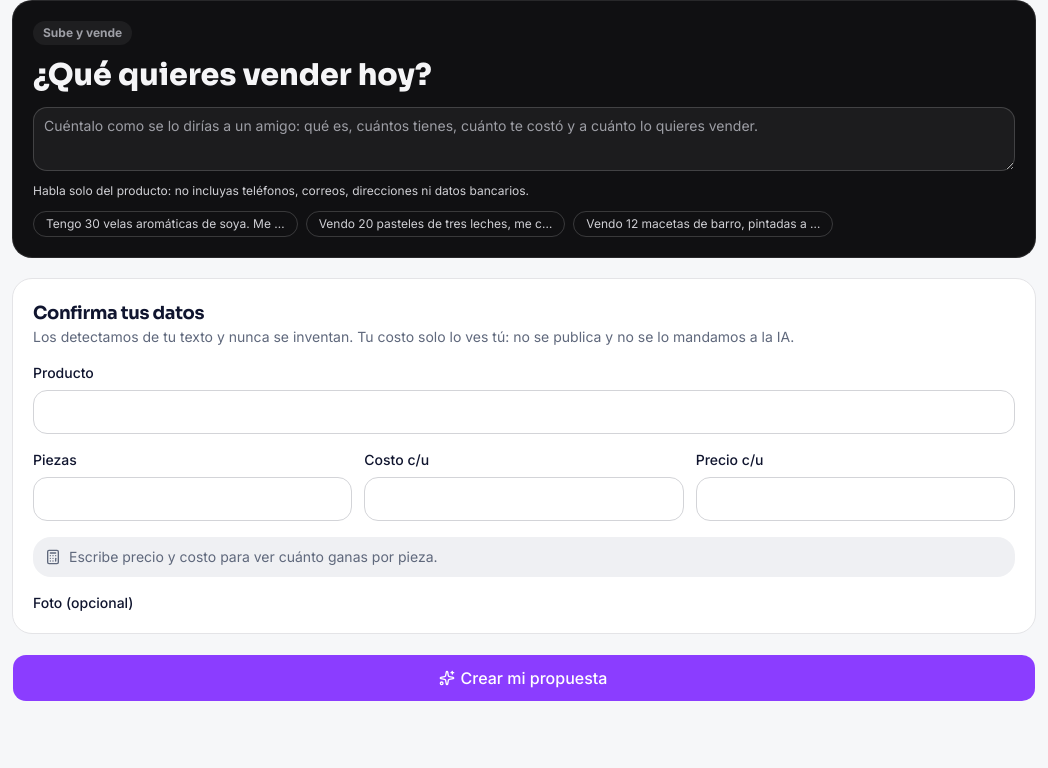
Test: SellWithAiForm: la etiqueta sigue a la propuesta que llegó (ADR-038) › el ejemplo {} llena bien los datos
The image size is (1048, 768).
Click the button "Tengo 30 velas aromáticas de soya. Me …" at (165, 224), box [33, 210, 298, 236]
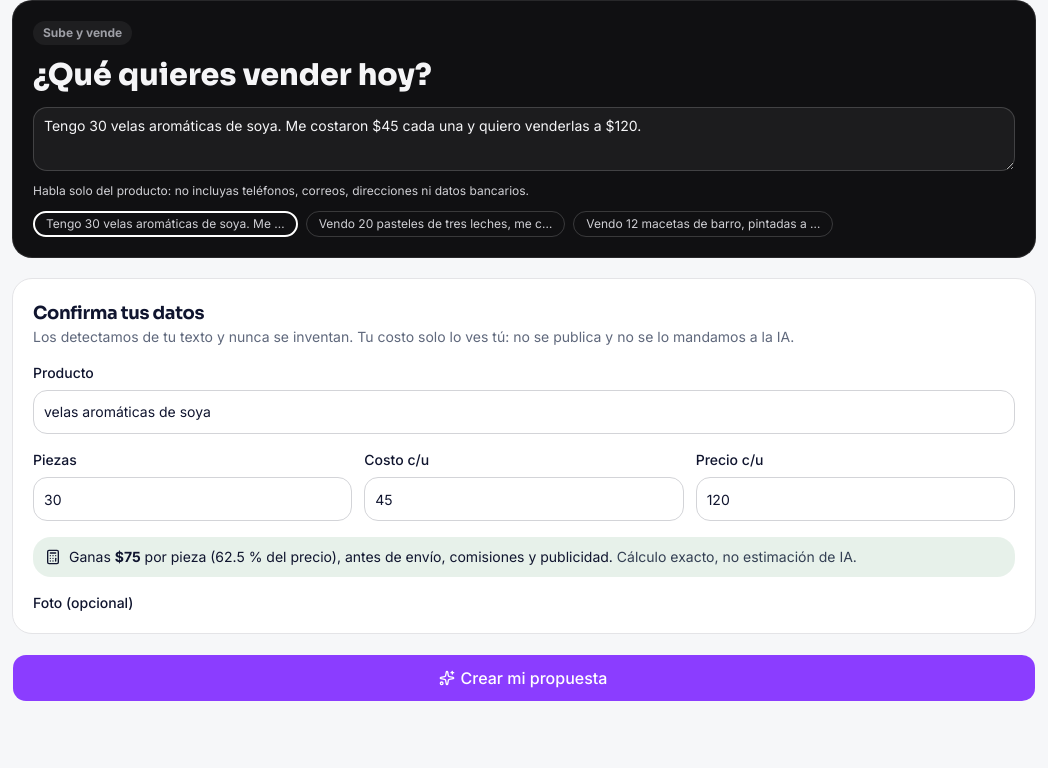
Now the field labelled "Producto" holds "velas aromáticas de soya", box [33, 390, 1015, 434]
Now the field labelled "Piezas" holds "30", box [33, 477, 352, 521]
Now the field labelled "Costo c/u" holds "45", box [364, 477, 684, 521]
